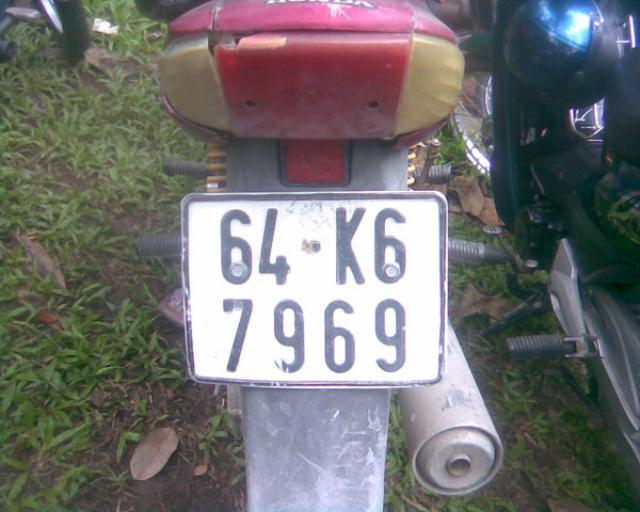plate: (186, 198, 442, 388)
